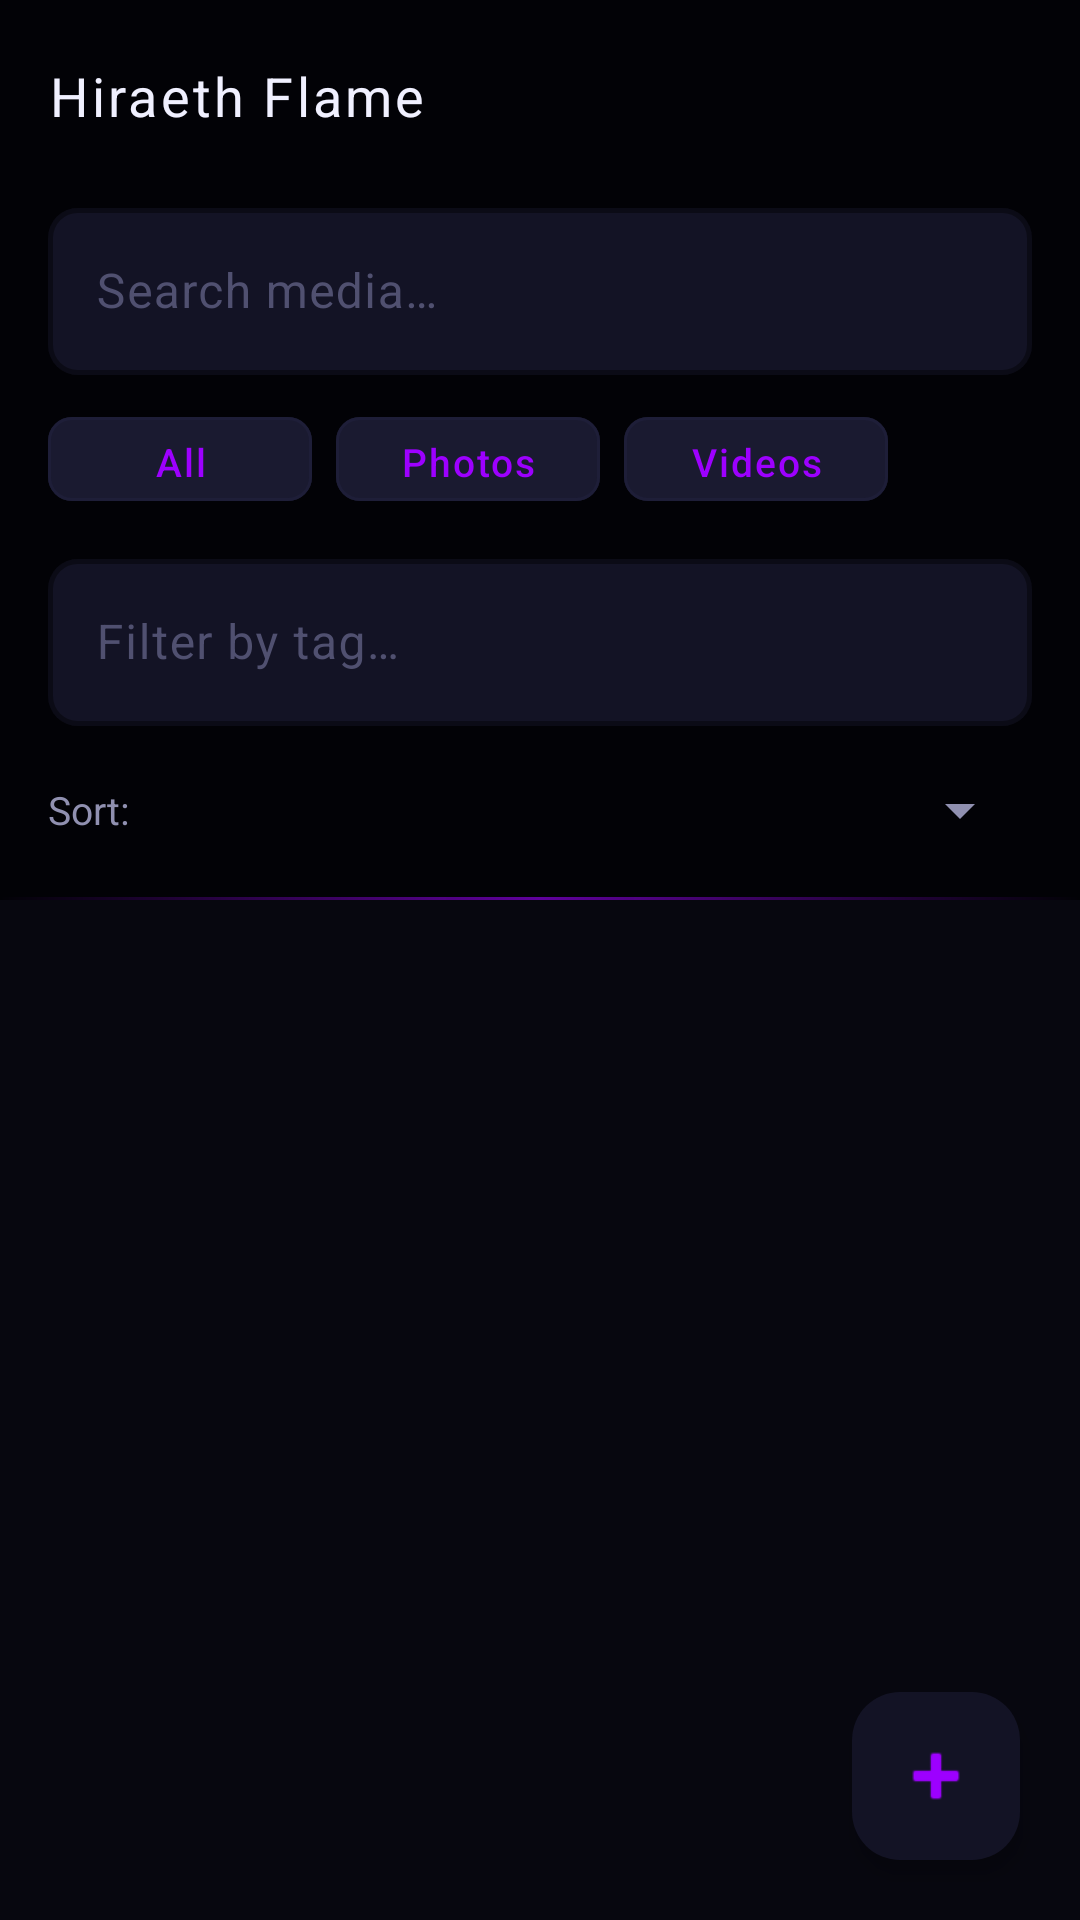

Icons on this 1080x1920 Android screen, each with the point to tap as (x,y):
Import media: (936,1776)
